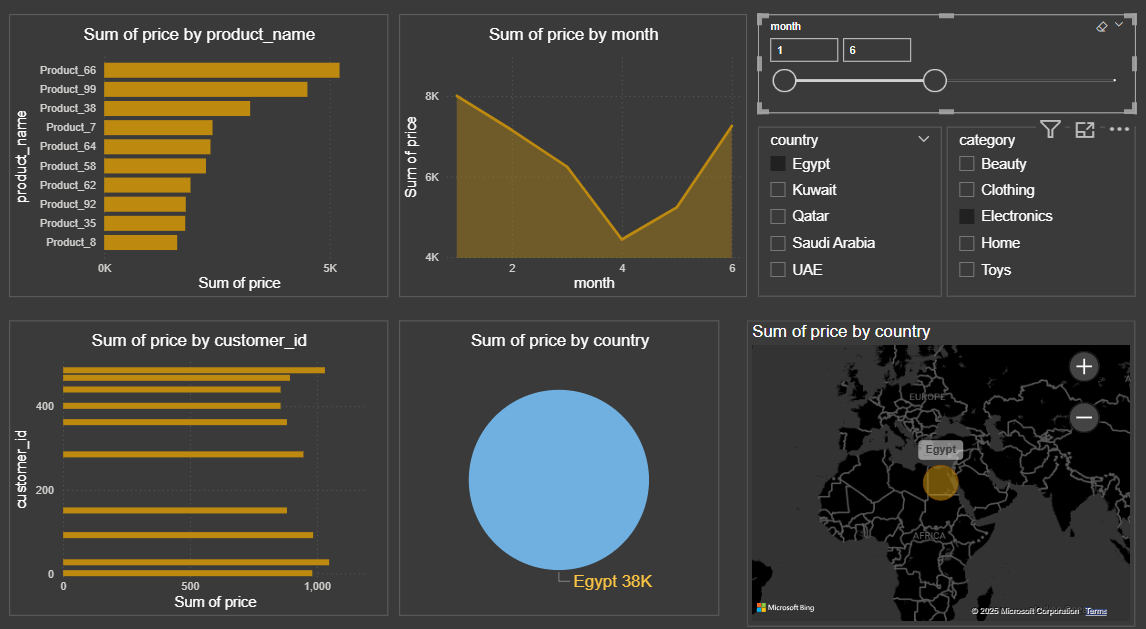

This screenshot's page, from the dashboard's own definition file:
{"tool":"powerbi","page":{"name":"Page 1","canvas":[1280,720],"ordinal":0},"visuals":[{"type":"areaChart","title":"Monthly Sales Trend","fields":{"Category":["orders_clean.month"],"Y":["Sum(orders_clean.price)"]},"box":[456.9,23.3,381.5,310.1],"z":0},{"type":"barChart","title":"Top 10 Best-Selling Products","fields":{"Category":["orders_clean.product_name"],"Y":["Sum(orders_clean.price)"]},"box":[28.8,23.3,415.8,310.1],"z":1000},{"type":"barChart","title":"Top 10 Customers by Spending","fields":{"Category":["orders_clean.customer_id"],"Y":["Sum(orders_clean.price)"]},"box":[28.8,359.5,415.8,323.8],"z":2000},{"type":"pieChart","title":"Sales Distribution by Country","fields":{"Series":["orders_clean.country"],"Y":["Sum(orders_clean.price)"]},"box":[456.9,359.5,351.3,323.8],"z":3000},{"type":"map","title":"Interactive Map of Sales by Country","fields":{"Category":["orders_clean.country"],"Size":["Sum(orders_clean.price)"]},"box":[838.4,359.5,426.8,336.2],"z":4000},{"type":"slicer","fields":{"Values":["orders_clean.month"]},"box":[850.8,23.3,414.4,108.4],"z":5000},{"type":"slicer","fields":{"Values":["orders_clean.country"]},"box":[850.8,146.8,201.7,186.6],"z":6000},{"type":"slicer","fields":{"Values":["orders_clean.category"]},"box":[1058,146.8,207.2,186.6],"z":7000}]}

Visuals, with their boxes in screenshot pixels (x1, y1, x2, y2), scaled from the page's 1280x720 canvas onto the 1146x629 screenshot:
"Monthly Sales Trend" areaChart: x1=409, y1=20, x2=751, y2=291
"Top 10 Best-Selling Products" barChart: x1=26, y1=20, x2=398, y2=291
"Top 10 Customers by Spending" barChart: x1=26, y1=314, x2=398, y2=597
"Sales Distribution by Country" pieChart: x1=409, y1=314, x2=724, y2=597
"Interactive Map of Sales by Country" map: x1=751, y1=314, x2=1133, y2=608
slicer - orders_clean.month: x1=762, y1=20, x2=1133, y2=115
slicer - orders_clean.country: x1=762, y1=128, x2=942, y2=291
slicer - orders_clean.category: x1=947, y1=128, x2=1133, y2=291
